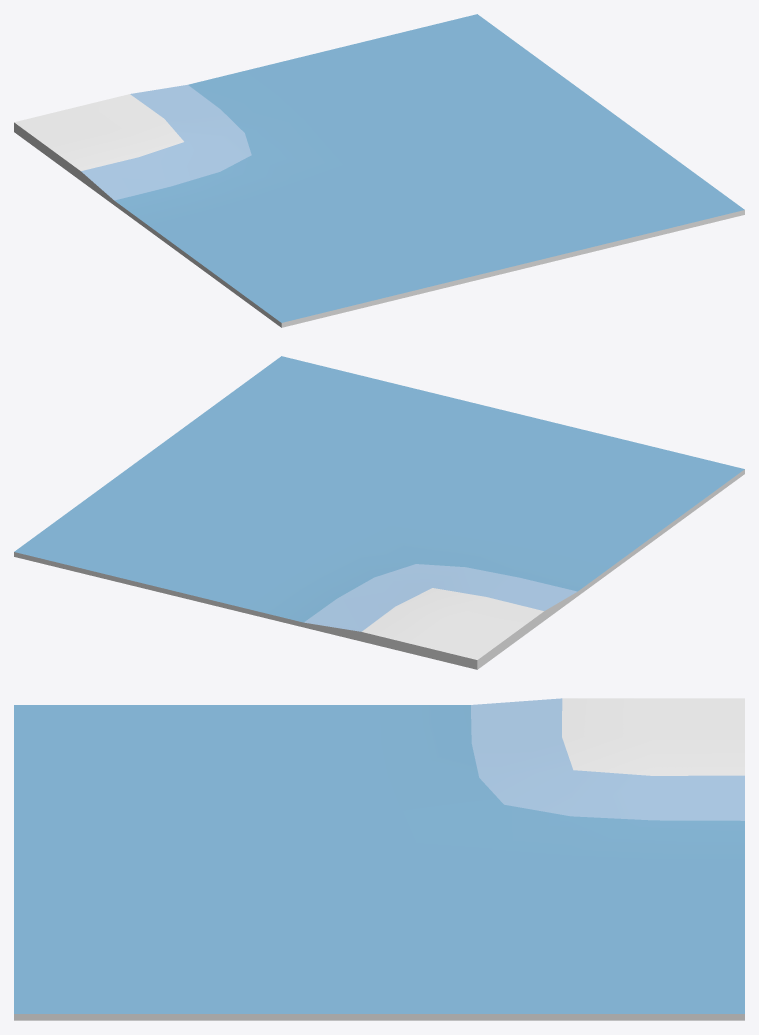
Rendered from water_concave_1.glb.
The picture shows the model from 3 angles, top to bottom: view 1: azimuth 30°, elevation 25°; view 2: azimuth 150°, elevation 25°; view 3: azimuth 270°, elevation 25°; orthographic projection. The views are drawn at different scales.
Visible parts, largest first — view 1: water_concave_1; view 2: water_concave_1; view 3: water_concave_1.
Boxes of the visible parts, <box> form: water_concave_1: <box>14,14,744,327</box>; water_concave_1: <box>14,356,744,669</box>; water_concave_1: <box>14,698,744,1020</box>.
Bounding box in the file's own units: 2 × 0.0402 × 2.
